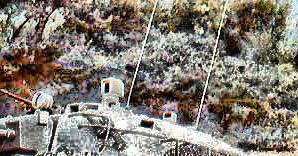tanks: (1, 78, 252, 156)
